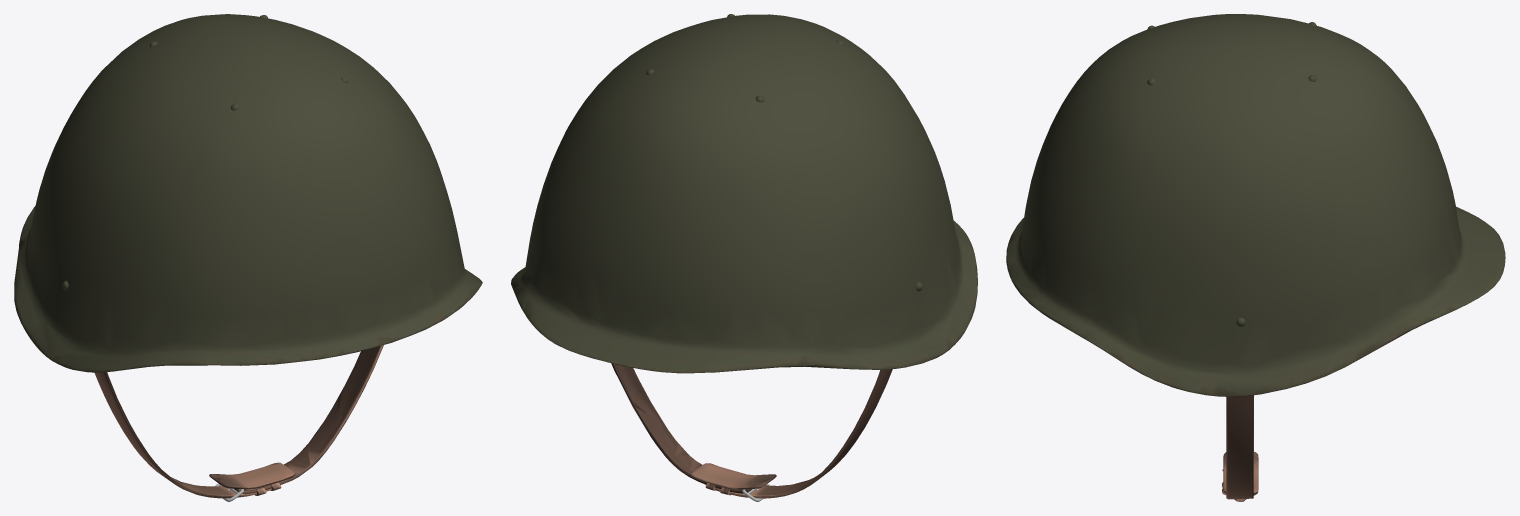
Rendered from ssh60.glb.
3 views of the same model, side by side, from view 1: azimuth 30°, elevation 25°; view 2: azimuth 150°, elevation 25°; view 3: azimuth 270°, elevation 25° (orthographic).
Parts seen in each view (by area): view 1: Object_2, Object_6; view 2: Object_2, Object_6; view 3: Object_2, Object_6.
Boxes of the visible parts, <box> form: Object_2: <box>14,14,482,372</box>; Object_6: <box>94,345,383,498</box>; Object_2: <box>511,14,977,373</box>; Object_6: <box>611,363,892,498</box>; Object_2: <box>1006,14,1505,396</box>; Object_6: <box>1222,395,1258,501</box>.
Size of the model in its own units: 3.12 by 3.38 by 3.36.
Materials: 6 (3 with a texture image).
